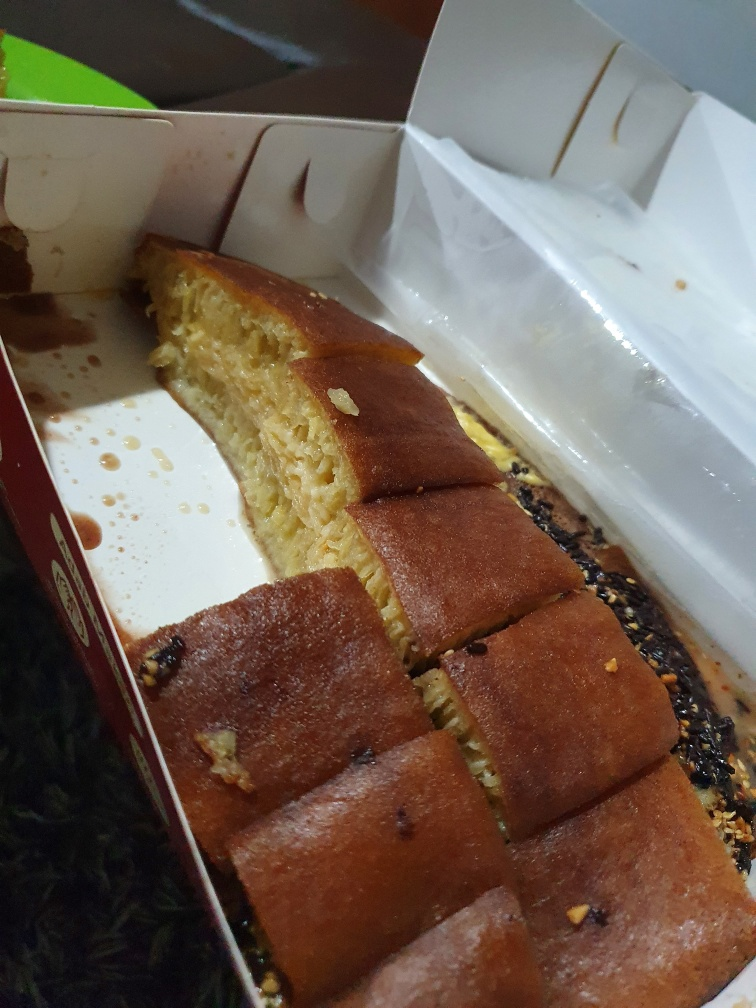martabak manis: (149, 735, 534, 940), (94, 576, 442, 779), (109, 206, 432, 424), (180, 349, 504, 553), (419, 568, 689, 803), (259, 477, 589, 636), (489, 806, 756, 998)
